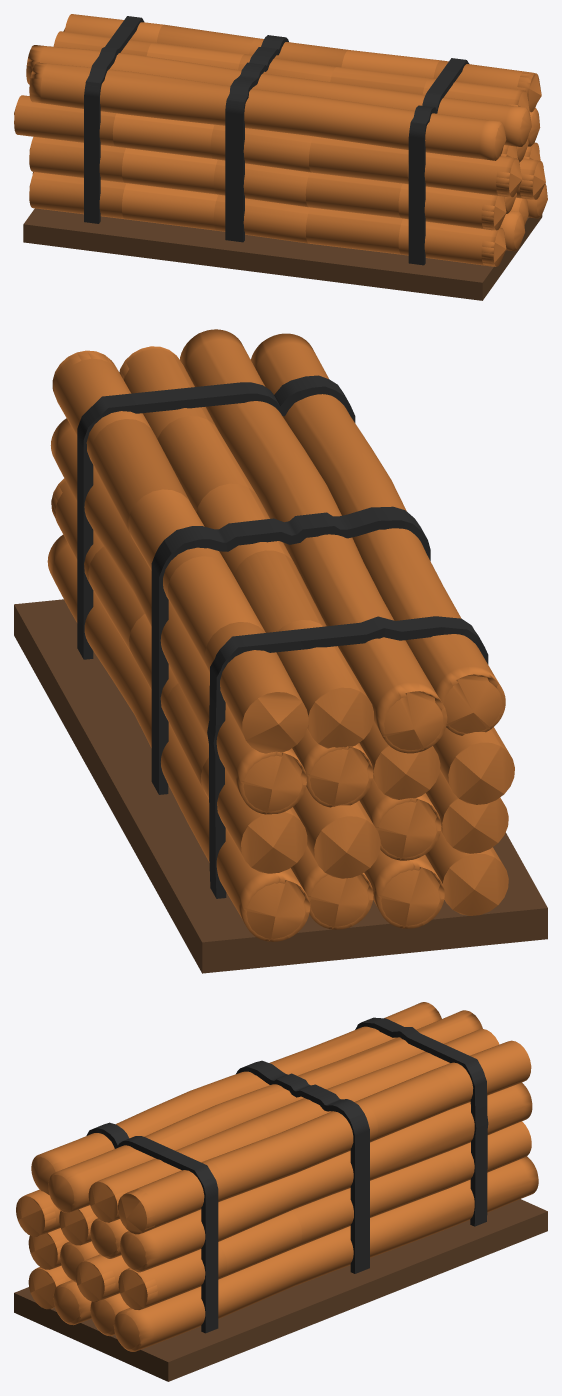
File: wood_001.fbx
3 views of the same model, one above another, from view 1: azimuth 30°, elevation 25°; view 2: azimuth 150°, elevation 25°; view 3: azimuth 270°, elevation 25° (orthographic). The views are drawn at different scales.
Parts seen in each view (by area): view 1: wood.001; view 2: wood.001; view 3: wood.001.
Boxes of the visible parts, x1,y1,x2,y2 form: wood.001: (14,14,547,300); wood.001: (14,329,547,973); wood.001: (14,1002,547,1381).
Bounding box in the file's own units: 9.06 × 3.48 × 9.28.
